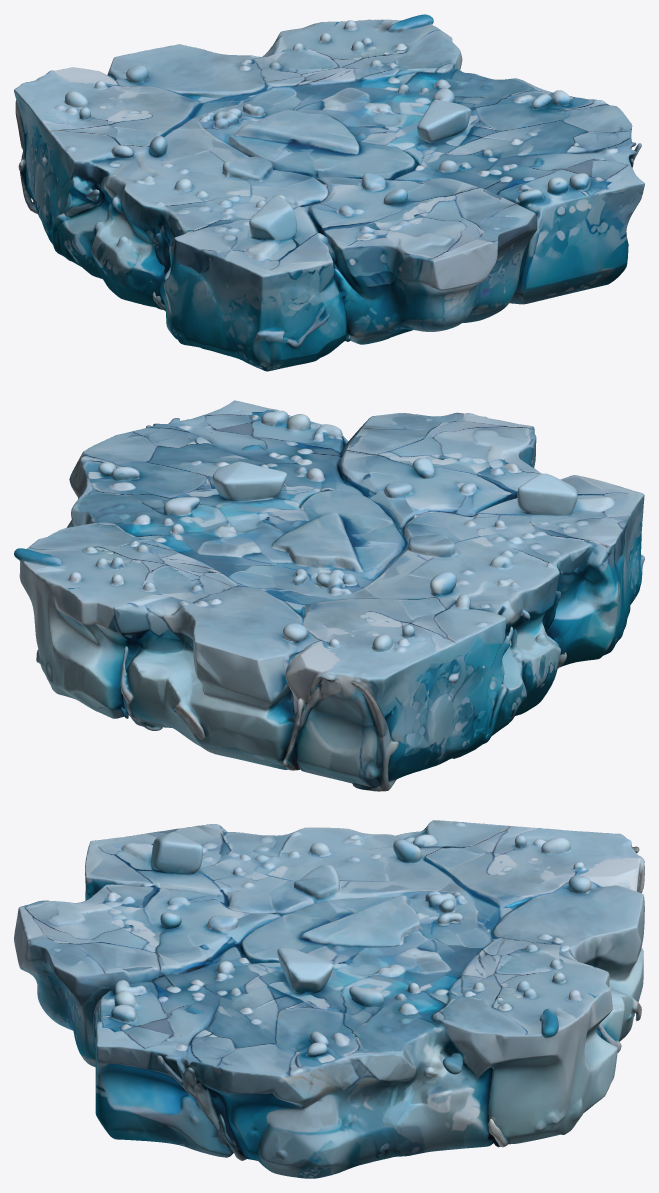
The model's file is nature-ice-floe.glb.
The picture shows the model from 3 angles, top to bottom: view 1: azimuth 30°, elevation 25°; view 2: azimuth 150°, elevation 25°; view 3: azimuth 270°, elevation 25°; orthographic projection. The views are drawn at different scales.
Parts seen in each view (by area): view 1: tripo_node_d50629bb-7ab4-41a6-aa6a-d2e3ebf709fd; view 2: tripo_node_d50629bb-7ab4-41a6-aa6a-d2e3ebf709fd; view 3: tripo_node_d50629bb-7ab4-41a6-aa6a-d2e3ebf709fd.
Part boxes in pixels (<box>): tripo_node_d50629bb-7ab4-41a6-aa6a-d2e3ebf709fd: <box>14,14,644,371</box>; tripo_node_d50629bb-7ab4-41a6-aa6a-d2e3ebf709fd: <box>14,400,644,791</box>; tripo_node_d50629bb-7ab4-41a6-aa6a-d2e3ebf709fd: <box>14,820,644,1178</box>.
Size of the model in its own units: 1.76 by 0.5001 by 1.85.
Materials: 1 (1 with a texture image).
